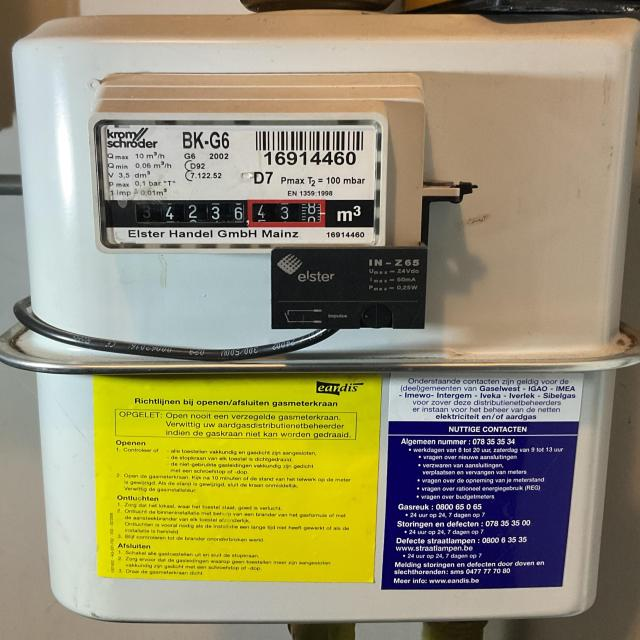gaz_meter: (96, 120, 382, 247)
indication: (126, 198, 329, 230)
